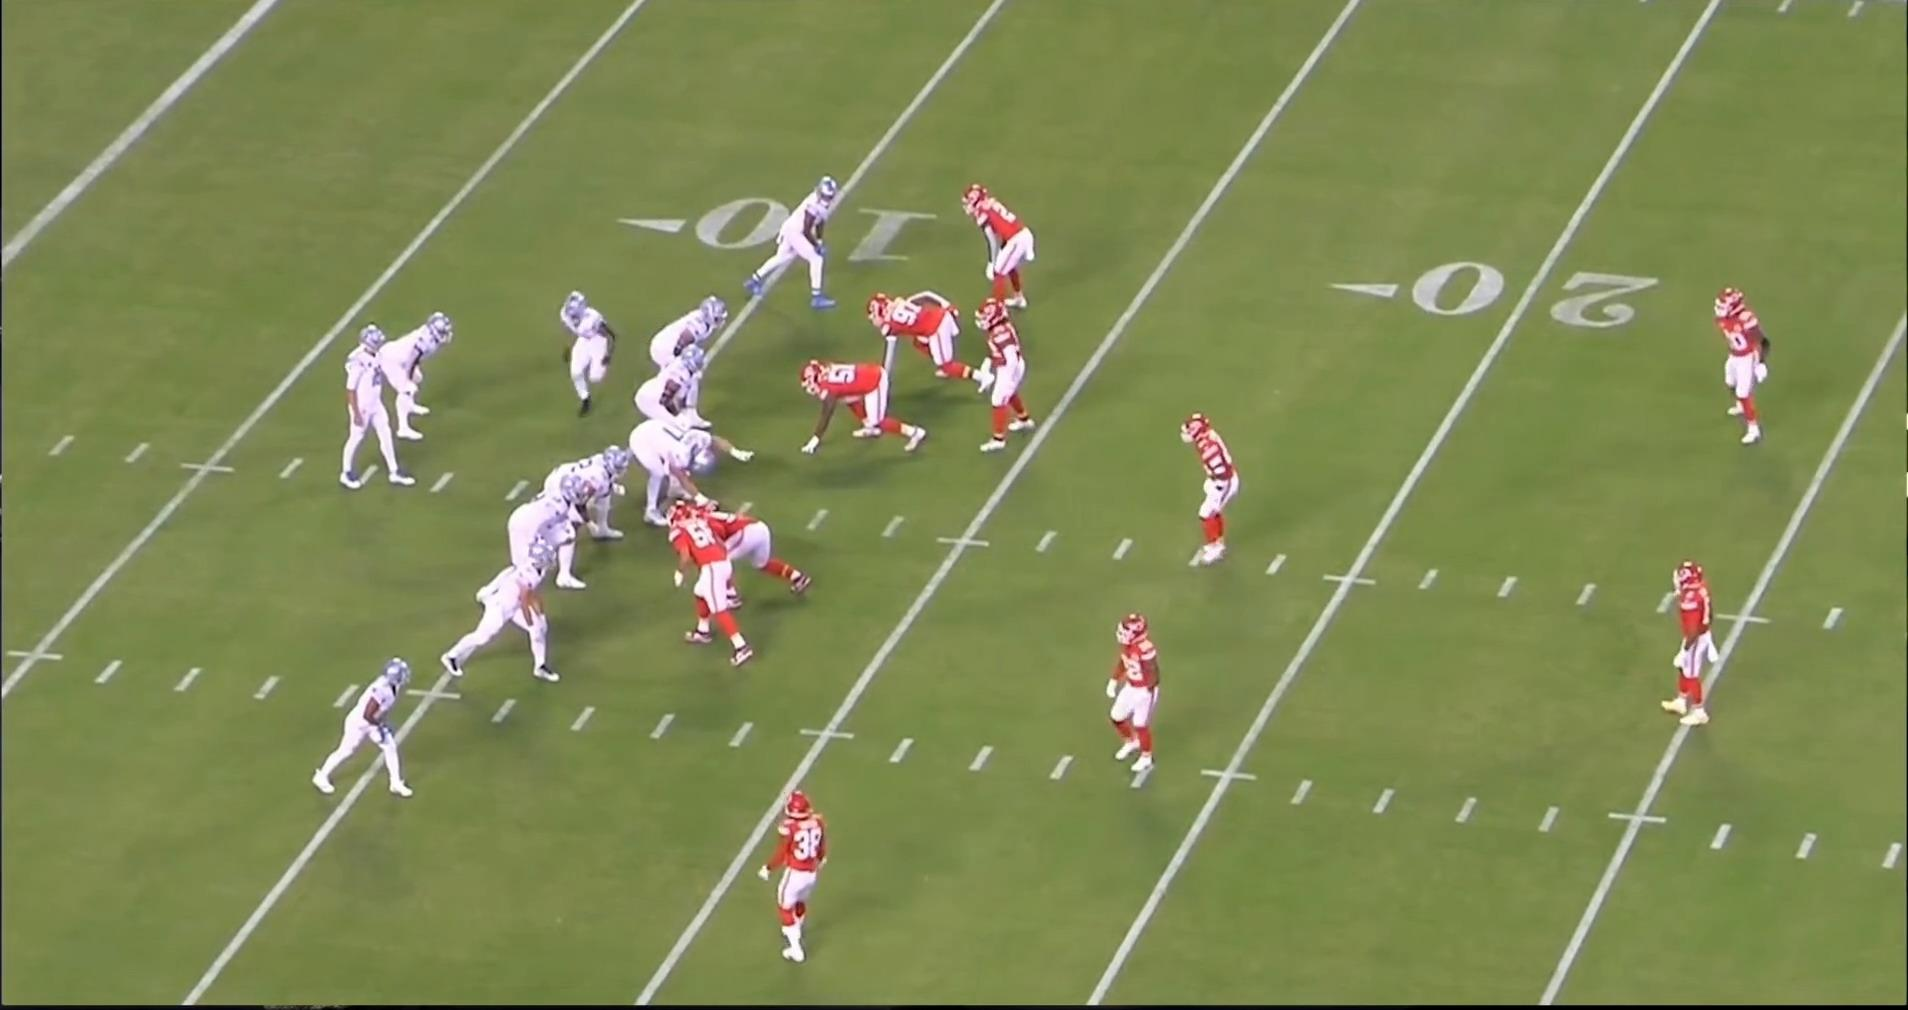defense: (664, 502, 758, 670), (684, 502, 820, 607), (766, 788, 843, 971), (794, 357, 929, 458), (1701, 279, 1772, 452), (863, 290, 986, 390), (1661, 561, 1730, 736), (1102, 606, 1169, 787), (967, 175, 1042, 316), (965, 299, 1031, 456), (1179, 413, 1240, 574)
oline: (481, 471, 589, 605), (539, 443, 631, 563), (627, 413, 718, 532), (647, 293, 729, 422), (633, 350, 712, 433)
qb: (326, 328, 414, 500)
skill: (444, 540, 573, 687), (303, 651, 416, 804), (738, 170, 849, 311), (389, 308, 463, 444), (550, 282, 616, 420)
